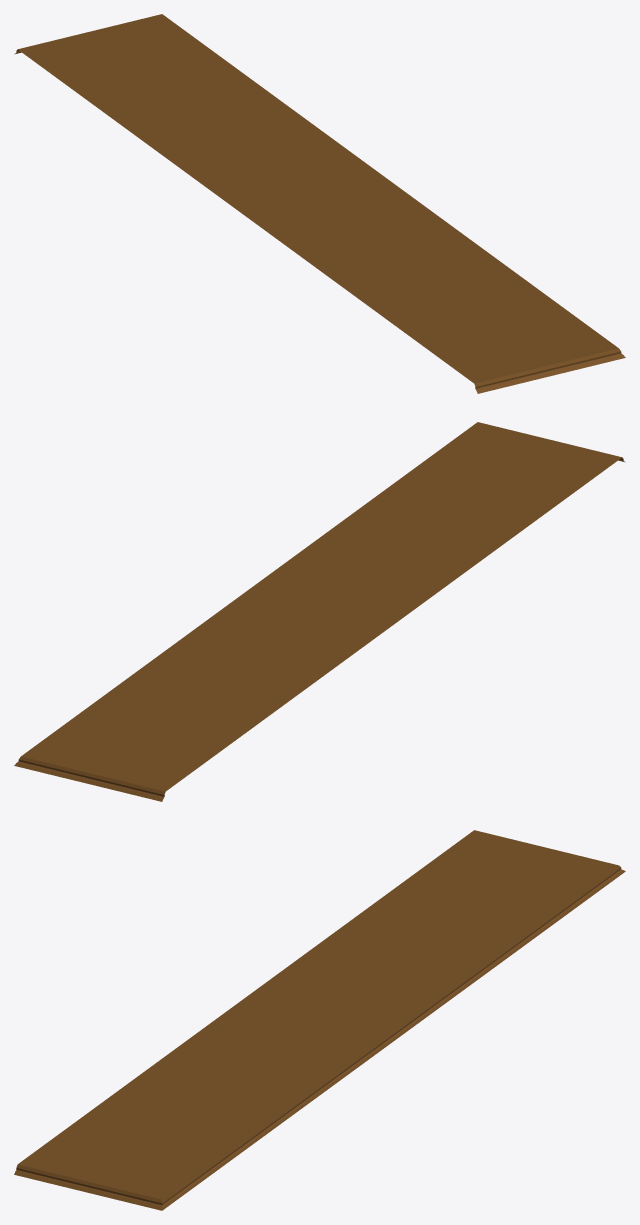
File: BaseInferior_Low.fbx
The picture shows the model from 3 angles, top to bottom: view 1: azimuth 30°, elevation 25°; view 2: azimuth 150°, elevation 25°; view 3: azimuth 330°, elevation 25°; orthographic projection.
Visible parts, largest first — view 1: BaseInferior_Low; view 2: BaseInferior_Low; view 3: BaseInferior_Low.
Part boxes in pixels (x1,y1,x2,y2): BaseInferior_Low: (14,14,625,393); BaseInferior_Low: (14,422,625,801); BaseInferior_Low: (14,830,625,1210).
Bounding box in the file's own units: 67.35 × 3.35 × 365.
